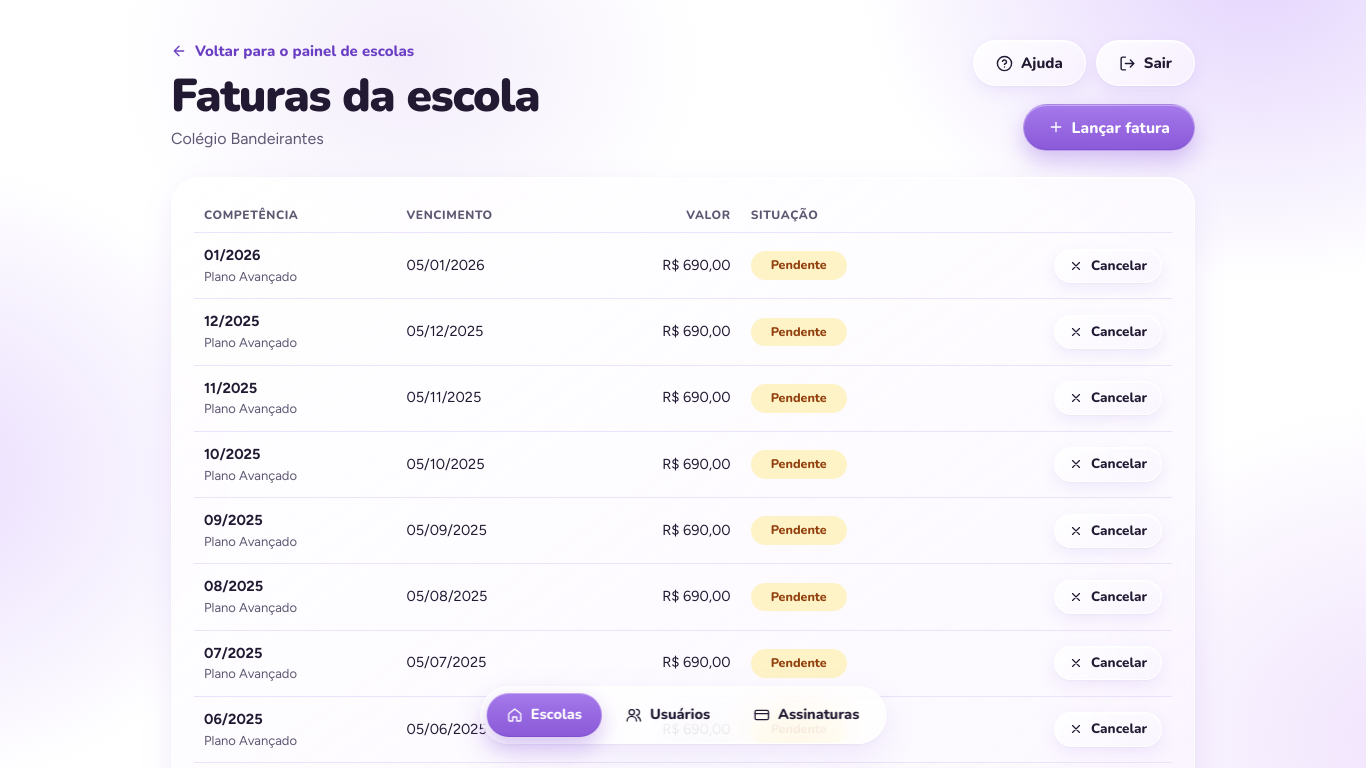
Scenario: Faturas da escola › cancelar lê a mesma página de novo
The width and height of the screenshot is (1366, 768).
Click the button "Cancelar" in the row of "05/01/2026" at (1108, 266), box left=1054, top=249, right=1162, bottom=283
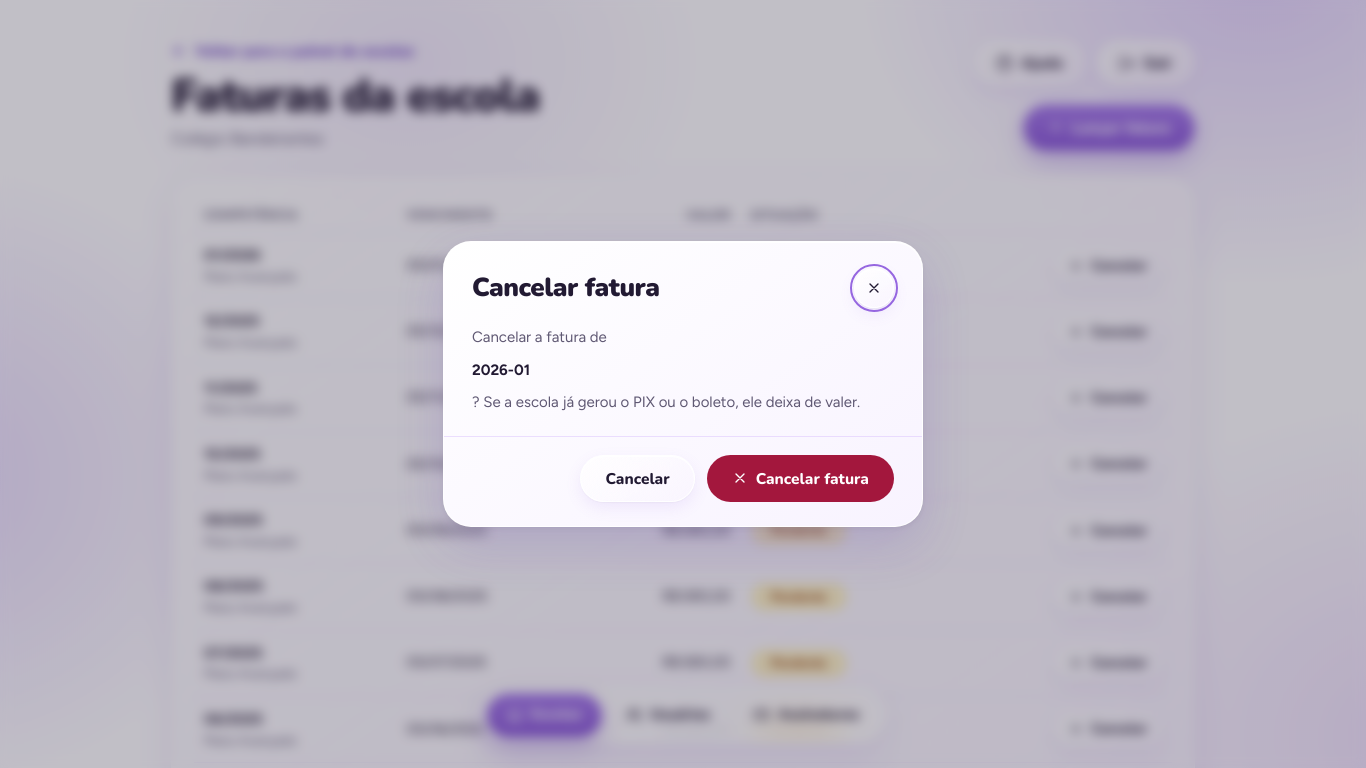
Click the button "Cancelar fatura" at (800, 478), box left=707, top=455, right=894, bottom=502
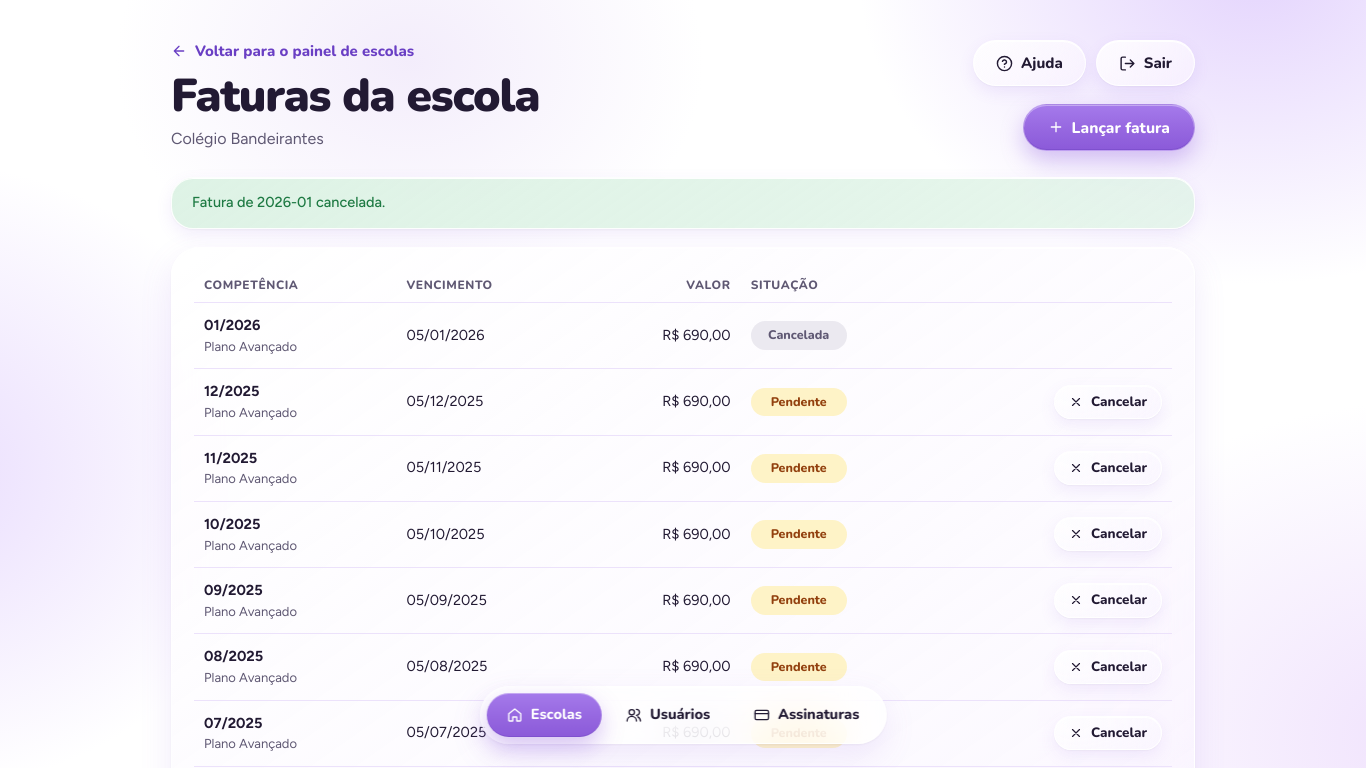
Expected: the text "Fatura de 2026-01 cancelada." is shown, left=171, top=177, right=1195, bottom=229
Expected: the text "Cancelada" is shown, left=751, top=321, right=847, bottom=350
